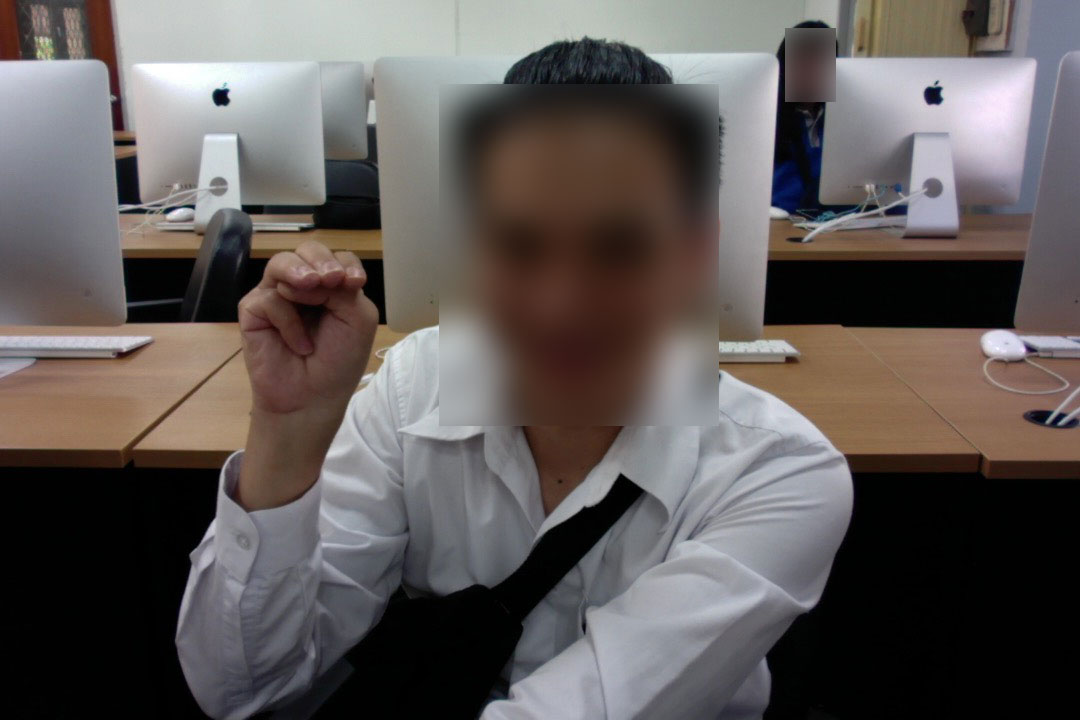mor: (236, 226, 381, 435)
